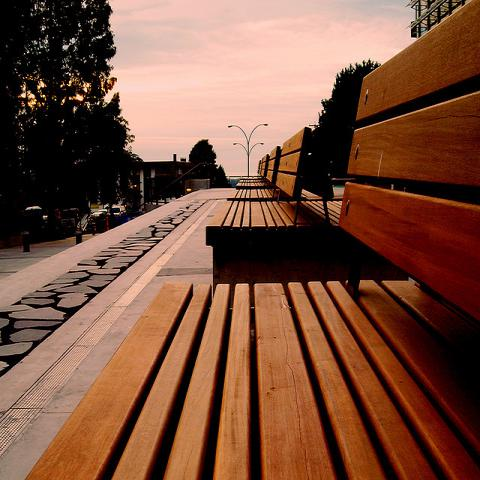car: (77, 211, 111, 235), (59, 206, 79, 230), (112, 206, 122, 221)
